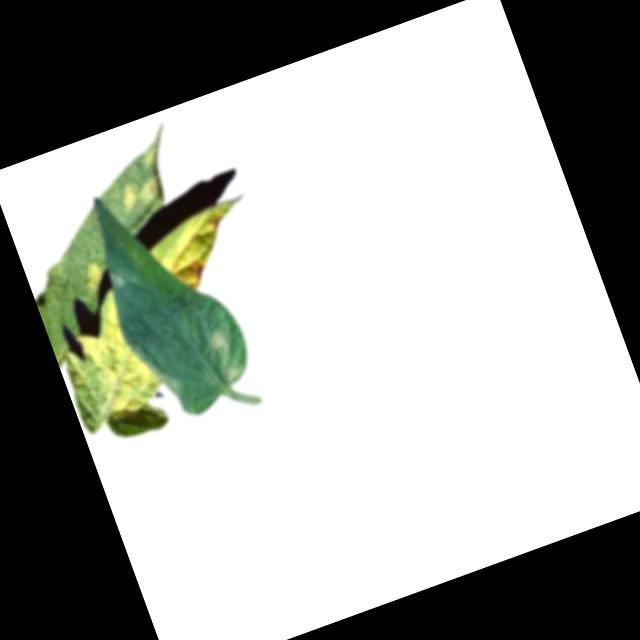Leaf_Mold: (44, 288, 169, 428), (146, 191, 270, 296), (115, 172, 164, 213), (77, 259, 103, 289), (202, 323, 228, 353)
